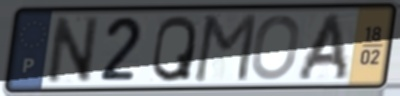2: (95, 14, 145, 85)
A: (293, 11, 351, 83)
M: (190, 11, 260, 84)
N: (46, 14, 102, 87)
O: (248, 12, 303, 82)
Q: (149, 13, 199, 85)
